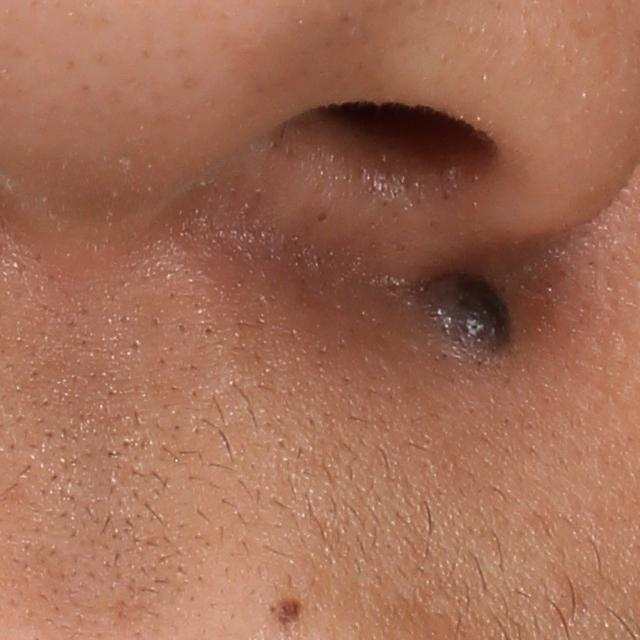nevus: (416, 257, 522, 374), (252, 588, 301, 636)
